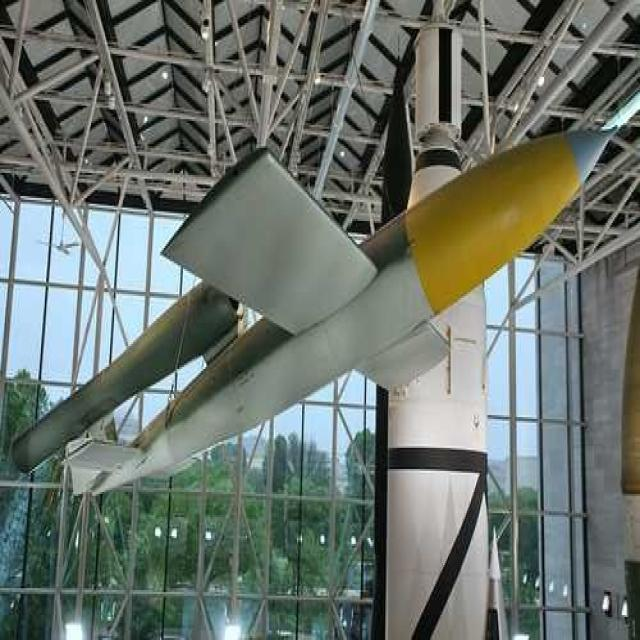missile: (35, 120, 622, 487)
